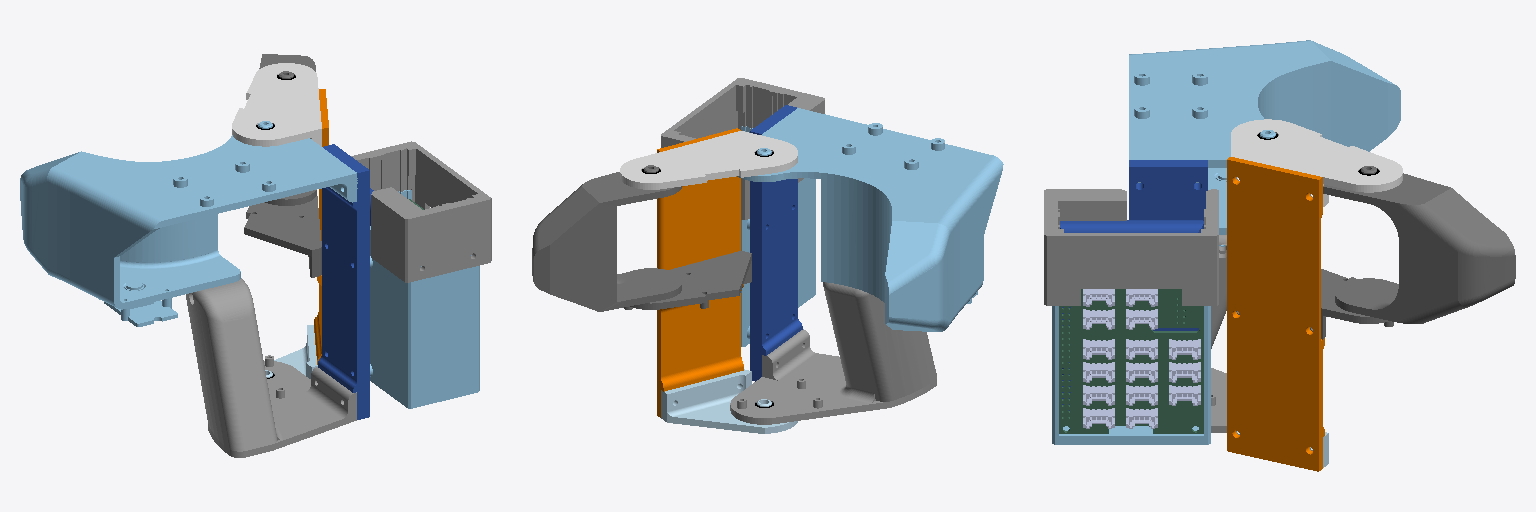
The robot description file, URDF, robot "grabette_right":
<?xml version="1.0" ?>
<!-- Generated using onshape-to-robot -->
<!-- Onshape https://cad.onshape.com/documents/8728c7fdb0e0b3c78180e1fb/w/529179f8dc04070c513eedce/e/88fd728908ce031c3076cd77 -->
<robot name="grabette_right">
  <!-- Link thumb_base -->
  <link name="thumb_base">
    <inertial>
      <origin xyz="0 0 0" rpy="0 0 0"/>
      <mass value="1e-09"/>
      <inertia ixx="1e-09" ixy="0" ixz="0" iyy="1e-09" iyz="0" izz="1e-09"/>
    </inertial>
    <!-- Part grip -->
    <visual>
      <origin xyz="-0.0105436 0.0157273 0" rpy="0 -0 0"/>
      <geometry>
        <mesh filename="package://grabette_right/assets/grip.stl"/>
      </geometry>
      <material name="grip_material">
        <color rgba="0.647059 0.647059 0.647059 1"/>
      </material>
    </visual>
    <collision>
      <origin xyz="-0.0105436 0.0157273 0" rpy="0 -0 0"/>
      <geometry>
        <mesh filename="package://grabette_right/assets/grip.stl"/>
      </geometry>
    </collision>
    <!-- Part vertical_support -->
    <visual>
      <origin xyz="-0.0105436 0.0157273 0" rpy="0 -0 -0"/>
      <geometry>
        <mesh filename="package://grabette_right/assets/vertical_support.stl"/>
      </geometry>
      <material name="vertical_support_material">
        <color rgba="0.231373 0.380392 0.705882 1"/>
      </material>
    </visual>
    <collision>
      <origin xyz="-0.0105436 0.0157273 0" rpy="0 -0 -0"/>
      <geometry>
        <mesh filename="package://grabette_right/assets/vertical_support.stl"/>
      </geometry>
    </collision>
    <!-- Part thumb_base -->
    <visual>
      <origin xyz="-0.0104436 0.0157273 0" rpy="0 -0 0"/>
      <geometry>
        <mesh filename="package://grabette_right/assets/thumb_base.stl"/>
      </geometry>
      <material name="thumb_base_material">
        <color rgba="0.615686 0.811765 0.929412 1"/>
      </material>
    </visual>
    <collision>
      <origin xyz="-0.0104436 0.0157273 0" rpy="0 -0 0"/>
      <geometry>
        <mesh filename="package://grabette_right/assets/thumb_base.stl"/>
      </geometry>
    </collision>
    <!-- Part red_button -->
    <visual>
      <origin xyz="0.0307258 0.0472051 -0.0557" rpy="0 -0 0"/>
      <geometry>
        <mesh filename="package://grabette_right/assets/red_button.stl"/>
      </geometry>
      <material name="red_button_material">
        <color rgba="0.615686 0.811765 0.929412 1"/>
      </material>
    </visual>
    <collision>
      <origin xyz="0.0307258 0.0472051 -0.0557" rpy="0 -0 0"/>
      <geometry>
        <mesh filename="package://grabette_right/assets/red_button.stl"/>
      </geometry>
    </collision>
    <!-- Part bushing_6x8x4 -->
    <visual>
      <origin xyz="-0.0001 -0 -0.11501" rpy="0 -0 0"/>
      <geometry>
        <mesh filename="package://grabette_right/assets/bushing_6x8x4.stl"/>
      </geometry>
      <material name="bushing_6x8x4_material">
        <color rgba="0 0 0 1"/>
      </material>
    </visual>
    <collision>
      <origin xyz="-0.0001 -0 -0.11501" rpy="0 -0 0"/>
      <geometry>
        <mesh filename="package://grabette_right/assets/bushing_6x8x4.stl"/>
      </geometry>
    </collision>
    <!-- Part raspi_box_lid -->
    <visual>
      <origin xyz="0.0394063 -0.0515497 -0.09908" rpy="-0 -0 -1.57079"/>
      <geometry>
        <mesh filename="package://grabette_right/assets/raspi_box_lid.stl"/>
      </geometry>
      <material name="raspi_box_lid_material">
        <color rgba="0.647059 0.647059 0.647059 1"/>
      </material>
    </visual>
    <collision>
      <origin xyz="0.0394063 -0.0515497 -0.09908" rpy="-0 -0 -1.57079"/>
      <geometry>
        <mesh filename="package://grabette_right/assets/raspi_box_lid.stl"/>
      </geometry>
    </collision>
    <!-- Part raspberry_pi_4_model_b -->
    <visual>
      <origin xyz="0.0414463 -0.0518997 -0.05458" rpy="-1.57079 -1.5708 0"/>
      <geometry>
        <mesh filename="package://grabette_right/assets/raspberry_pi_4_model_b.stl"/>
      </geometry>
      <material name="raspberry_pi_4_model_b_material">
        <color rgba="0.231373 0.380392 0.705882 1"/>
      </material>
    </visual>
    <collision>
      <origin xyz="0.0414463 -0.0518997 -0.05458" rpy="-1.57079 -1.5708 0"/>
      <geometry>
        <mesh filename="package://grabette_right/assets/raspberry_pi_4_model_b.stl"/>
      </geometry>
    </collision>
    <!-- Part raspi_box -->
    <visual>
      <origin xyz="0.0394063 -0.0517497 -0.09908" rpy="0 -0 -1.57079"/>
      <geometry>
        <mesh filename="package://grabette_right/assets/raspi_box.stl"/>
      </geometry>
      <material name="raspi_box_material">
        <color rgba="0.615686 0.811765 0.929412 1"/>
      </material>
    </visual>
    <collision>
      <origin xyz="0.0394063 -0.0517497 -0.09908" rpy="0 -0 -1.57079"/>
      <geometry>
        <mesh filename="package://grabette_right/assets/raspi_box.stl"/>
      </geometry>
    </collision>
    <!-- Part pisugar3plus -->
    <visual>
      <origin xyz="0.0380563 -0.0518932 -0.0645992" rpy="1.57079 1.5708 0"/>
      <geometry>
        <mesh filename="package://grabette_right/assets/pisugar3plus.stl"/>
      </geometry>
      <material name="pisugar3plus_material">
        <color rgba="0.231373 0.380392 0.705882 1"/>
      </material>
    </visual>
    <collision>
      <origin xyz="0.0380563 -0.0518932 -0.0645992" rpy="1.57079 1.5708 0"/>
      <geometry>
        <mesh filename="package://grabette_right/assets/pisugar3plus.stl"/>
      </geometry>
    </collision>
    <!-- Part user_library_grove_connector__sit -->
    <visual>
      <origin xyz="0.0553415 -0.0690316 -0.07041" rpy="-3.14159 0 1.5708"/>
      <geometry>
        <mesh filename="package://grabette_right/assets/user_library_grove_connector__sit.stl"/>
      </geometry>
      <material name="user_library_grove_connector__sit_material">
        <color rgba="0.792157 0.819608 0.933333 1"/>
      </material>
    </visual>
    <collision>
      <origin xyz="0.0553415 -0.0690316 -0.07041" rpy="-3.14159 0 1.5708"/>
      <geometry>
        <mesh filename="package://grabette_right/assets/user_library_grove_connector__sit.stl"/>
      </geometry>
    </collision>
    <!-- Part user_library_grove_connector__sit_2 -->
    <visual>
      <origin xyz="0.0553415 -0.0690316 -0.048185" rpy="-3.14159 0 1.5708"/>
      <geometry>
        <mesh filename="package://grabette_right/assets/user_library_grove_connector__sit.stl"/>
      </geometry>
      <material name="user_library_grove_connector__sit_2_material">
        <color rgba="0.792157 0.819608 0.933333 1"/>
      </material>
    </visual>
    <collision>
      <origin xyz="0.0553415 -0.0690316 -0.048185" rpy="-3.14159 0 1.5708"/>
      <geometry>
        <mesh filename="package://grabette_right/assets/user_library_grove_connector__sit.stl"/>
      </geometry>
    </collision>
    <!-- Part user_library_grove_connector__sit_3 -->
    <visual>
      <origin xyz="0.0553415 -0.0690316 -0.038533" rpy="-3.14159 0 1.5708"/>
      <geometry>
        <mesh filename="package://grabette_right/assets/user_library_grove_connector__sit.stl"/>
      </geometry>
      <material name="user_library_grove_connector__sit_3_material">
        <color rgba="0.792157 0.819608 0.933333 1"/>
      </material>
    </visual>
    <collision>
      <origin xyz="0.0553415 -0.0690316 -0.038533" rpy="-3.14159 0 1.5708"/>
      <geometry>
        <mesh filename="package://grabette_right/assets/user_library_grove_connector__sit.stl"/>
      </geometry>
    </collision>
    <!-- Part user_library_grove_connector__sit_4 -->
    <visual>
      <origin xyz="0.0553412 -0.0365196 -0.07041" rpy="-3.14159 0 1.5708"/>
      <geometry>
        <mesh filename="package://grabette_right/assets/user_library_grove_connector__sit.stl"/>
      </geometry>
      <material name="user_library_grove_connector__sit_4_material">
        <color rgba="0.792157 0.819608 0.933333 1"/>
      </material>
    </visual>
    <collision>
      <origin xyz="0.0553412 -0.0365196 -0.07041" rpy="-3.14159 0 1.5708"/>
      <geometry>
        <mesh filename="package://grabette_right/assets/user_library_grove_connector__sit.stl"/>
      </geometry>
    </collision>
    <!-- Part user_library_grove_connector__sit_5 -->
    <visual>
      <origin xyz="0.0553415 -0.0690316 -0.060758" rpy="-3.14159 0 1.5708"/>
      <geometry>
        <mesh filename="package://grabette_right/assets/user_library_grove_connector__sit.stl"/>
      </geometry>
      <material name="user_library_grove_connector__sit_5_material">
        <color rgba="0.792157 0.819608 0.933333 1"/>
      </material>
    </visual>
    <collision>
      <origin xyz="0.0553415 -0.0690316 -0.060758" rpy="-3.14159 0 1.5708"/>
      <geometry>
        <mesh filename="package://grabette_right/assets/user_library_grove_connector__sit.stl"/>
      </geometry>
    </collision>
    <!-- Part user_library_grove_connector__sit_6 -->
    <visual>
      <origin xyz="0.0553413 -0.0527121 -0.089714" rpy="-3.14159 0 1.5708"/>
      <geometry>
        <mesh filename="package://grabette_right/assets/user_library_grove_connector__sit.stl"/>
      </geometry>
      <material name="user_library_grove_connector__sit_6_material">
        <color rgba="0.792157 0.819608 0.933333 1"/>
      </material>
    </visual>
    <collision>
      <origin xyz="0.0553413 -0.0527121 -0.089714" rpy="-3.14159 0 1.5708"/>
      <geometry>
        <mesh filename="package://grabette_right/assets/user_library_grove_connector__sit.stl"/>
      </geometry>
    </collision>
    <!-- Part user_library_grove_connector__sit_7 -->
    <visual>
      <origin xyz="0.0553415 -0.0690316 -0.080062" rpy="-3.14159 0 1.5708"/>
      <geometry>
        <mesh filename="package://grabette_right/assets/user_library_grove_connector__sit.stl"/>
      </geometry>
      <material name="user_library_grove_connector__sit_7_material">
        <color rgba="0.792157 0.819608 0.933333 1"/>
      </material>
    </visual>
    <collision>
      <origin xyz="0.0553415 -0.0690316 -0.080062" rpy="-3.14159 0 1.5708"/>
      <geometry>
        <mesh filename="package://grabette_right/assets/user_library_grove_connector__sit.stl"/>
      </geometry>
    </collision>
    <!-- Part user_library_grove_connector__sit_8 -->
    <visual>
      <origin xyz="0.0553413 -0.0527121 -0.07041" rpy="-3.14159 0 1.5708"/>
      <geometry>
        <mesh filename="package://grabette_right/assets/user_library_grove_connector__sit.stl"/>
      </geometry>
      <material name="user_library_grove_connector__sit_8_material">
        <color rgba="0.792157 0.819608 0.933333 1"/>
      </material>
    </visual>
    <collision>
      <origin xyz="0.0553413 -0.0527121 -0.07041" rpy="-3.14159 0 1.5708"/>
      <geometry>
        <mesh filename="package://grabette_right/assets/user_library_grove_connector__sit.stl"/>
      </geometry>
    </collision>
    <!-- Part user_library_grove_connector__sit_9 -->
    <visual>
      <origin xyz="0.0553413 -0.0527121 -0.048185" rpy="-3.14159 0 1.5708"/>
      <geometry>
        <mesh filename="package://grabette_right/assets/user_library_grove_connector__sit.stl"/>
      </geometry>
      <material name="user_library_grove_connector__sit_9_material">
        <color rgba="0.792157 0.819608 0.933333 1"/>
      </material>
    </visual>
    <collision>
      <origin xyz="0.0553413 -0.0527121 -0.048185" rpy="-3.14159 0 1.5708"/>
      <geometry>
        <mesh filename="package://grabette_right/assets/user_library_grove_connector__sit.stl"/>
      </geometry>
    </collision>
    <!-- Part user_library_grove_connector__sit_10 -->
    <visual>
      <origin xyz="0.0553413 -0.0527121 -0.060758" rpy="-3.14159 0 1.5708"/>
      <geometry>
        <mesh filename="package://grabette_right/assets/user_library_grove_connector__sit.stl"/>
      </geometry>
      <material name="user_library_grove_connector__sit_10_material">
        <color rgba="0.792157 0.819608 0.933333 1"/>
      </material>
    </visual>
    <collision>
      <origin xyz="0.0553413 -0.0527121 -0.060758" rpy="-3.14159 0 1.5708"/>
      <geometry>
        <mesh filename="package://grabette_right/assets/user_library_grove_connector__sit.stl"/>
      </geometry>
    </collision>
    <!-- Part raspberry_pi_grove_base_hat_v1_0_pcb -->
    <visual>
      <origin xyz="0.0532471 -0.156903 -0.213081" rpy="-3.14159 -1.5708 0"/>
      <geometry>
        <mesh filename="package://grabette_right/assets/raspberry_pi_grove_base_hat_v1_0_pcb.stl"/>
      </geometry>
      <material name="raspberry_pi_grove_base_hat_v1_0_pcb_material">
        <color rgba="0.313725 0.486275 0.411765 1"/>
      </material>
    </visual>
    <collision>
      <origin xyz="0.0532471 -0.156903 -0.213081" rpy="-3.14159 -1.5708 0"/>
      <geometry>
        <mesh filename="package://grabette_right/assets/raspberry_pi_grove_base_hat_v1_0_pcb.stl"/>
      </geometry>
    </collision>
    <!-- Part user_library_grove_connector__sit_11 -->
    <visual>
      <origin xyz="0.0553412 -0.0365196 -0.060758" rpy="-3.14159 0 1.5708"/>
      <geometry>
        <mesh filename="package://grabette_right/assets/user_library_grove_connector__sit.stl"/>
      </geometry>
      <material name="user_library_grove_connector__sit_11_material">
        <color rgba="0.792157 0.819608 0.933333 1"/>
      </material>
    </visual>
    <collision>
      <origin xyz="0.0553412 -0.0365196 -0.060758" rpy="-3.14159 0 1.5708"/>
      <geometry>
        <mesh filename="package://grabette_right/assets/user_library_grove_connector__sit.stl"/>
      </geometry>
    </collision>
    <!-- Part user_library_grove_connector__sit_12 -->
    <visual>
      <origin xyz="0.0553413 -0.0527121 -0.038533" rpy="-3.14159 0 1.5708"/>
      <geometry>
        <mesh filename="package://grabette_right/assets/user_library_grove_connector__sit.stl"/>
      </geometry>
      <material name="user_library_grove_connector__sit_12_material">
        <color rgba="0.792157 0.819608 0.933333 1"/>
      </material>
    </visual>
    <collision>
      <origin xyz="0.0553413 -0.0527121 -0.038533" rpy="-3.14159 0 1.5708"/>
      <geometry>
        <mesh filename="package://grabette_right/assets/user_library_grove_connector__sit.stl"/>
      </geometry>
    </collision>
    <!-- Part user_library_grove_connector__sit_13 -->
    <visual>
      <origin xyz="0.0553415 -0.0690316 -0.089714" rpy="-3.14159 0 1.5708"/>
      <geometry>
        <mesh filename="package://grabette_right/assets/user_library_grove_connector__sit.stl"/>
      </geometry>
      <material name="user_library_grove_connector__sit_13_material">
        <color rgba="0.792157 0.819608 0.933333 1"/>
      </material>
    </visual>
    <collision>
      <origin xyz="0.0553415 -0.0690316 -0.089714" rpy="-3.14159 0 1.5708"/>
      <geometry>
        <mesh filename="package://grabette_right/assets/user_library_grove_connector__sit.stl"/>
      </geometry>
    </collision>
    <!-- Part user_library_grove_connector__sit_14 -->
    <visual>
      <origin xyz="0.0553412 -0.0365196 -0.080062" rpy="-3.14159 0 1.5708"/>
      <geometry>
        <mesh filename="package://grabette_right/assets/user_library_grove_connector__sit.stl"/>
      </geometry>
      <material name="user_library_grove_connector__sit_14_material">
        <color rgba="0.792157 0.819608 0.933333 1"/>
      </material>
    </visual>
    <collision>
      <origin xyz="0.0553412 -0.0365196 -0.080062" rpy="-3.14159 0 1.5708"/>
      <geometry>
        <mesh filename="package://grabette_right/assets/user_library_grove_connector__sit.stl"/>
      </geometry>
    </collision>
    <!-- Part user_library_grove_connector__sit_15 -->
    <visual>
      <origin xyz="0.0553413 -0.0527121 -0.080062" rpy="-3.14159 0 1.5708"/>
      <geometry>
        <mesh filename="package://grabette_right/assets/user_library_grove_connector__sit.stl"/>
      </geometry>
      <material name="user_library_grove_connector__sit_15_material">
        <color rgba="0.792157 0.819608 0.933333 1"/>
      </material>
    </visual>
    <collision>
      <origin xyz="0.0553413 -0.0527121 -0.080062" rpy="-3.14159 0 1.5708"/>
      <geometry>
        <mesh filename="package://grabette_right/assets/user_library_grove_connector__sit.stl"/>
      </geometry>
    </collision>
  </link>
  <!-- Link phalanx_1_bottom -->
  <link name="phalanx_1_bottom">
    <inertial>
      <origin xyz="0 0 0" rpy="0 0 0"/>
      <mass value="1e-09"/>
      <inertia ixx="1e-09" ixy="0" ixz="0" iyy="1e-09" iyz="0" izz="1e-09"/>
    </inertial>
    <!-- Part phalanx_1_bottom -->
    <visual>
      <origin xyz="-0.0104436 -0.0157273 7e-05" rpy="3.14159 -0 -0"/>
      <geometry>
        <mesh filename="package://grabette_right/assets/phalanx_1_bottom.stl"/>
      </geometry>
      <material name="phalanx_1_bottom_material">
        <color rgba="0.768627 0.886275 0.952941 1"/>
      </material>
    </visual>
    <collision>
      <origin xyz="-0.0104436 -0.0157273 7e-05" rpy="3.14159 -0 -0"/>
      <geometry>
        <mesh filename="package://grabette_right/assets/phalanx_1_bottom.stl"/>
      </geometry>
    </collision>
    <!-- Part phalanx_1_side -->
    <visual>
      <origin xyz="-0.0104436 -0.0157273 7e-05" rpy="3.14159 -0 0"/>
      <geometry>
        <mesh filename="package://grabette_right/assets/phalanx_1_side.stl"/>
      </geometry>
      <material name="phalanx_1_side_material">
        <color rgba="0.972549 0.529412 0.00392157 1"/>
      </material>
    </visual>
    <collision>
      <origin xyz="-0.0104436 -0.0157273 7e-05" rpy="3.14159 -0 0"/>
      <geometry>
        <mesh filename="package://grabette_right/assets/phalanx_1_side.stl"/>
      </geometry>
    </collision>
    <!-- Part phalanx_1_middle -->
    <visual>
      <origin xyz="-0.0104436 -0.0157273 7e-05" rpy="3.14159 -0 -0"/>
      <geometry>
        <mesh filename="package://grabette_right/assets/phalanx_1_middle.stl"/>
      </geometry>
      <material name="phalanx_1_middle_material">
        <color rgba="0.498039 0.498039 0.498039 1"/>
      </material>
    </visual>
    <collision>
      <origin xyz="-0.0104436 -0.0157273 7e-05" rpy="3.14159 -0 -0"/>
      <geometry>
        <mesh filename="package://grabette_right/assets/phalanx_1_middle.stl"/>
      </geometry>
    </collision>
    <!-- Part bushing_6x8x4_2 -->
    <visual>
      <origin xyz="0.0321391 -0.0383025 0.05014" rpy="0 -0 -0"/>
      <geometry>
        <mesh filename="package://grabette_right/assets/bushing_6x8x4.stl"/>
      </geometry>
      <material name="bushing_6x8x4_2_material">
        <color rgba="0 0 0 1"/>
      </material>
    </visual>
    <collision>
      <origin xyz="0.0321391 -0.0383025 0.05014" rpy="0 -0 -0"/>
      <geometry>
        <mesh filename="package://grabette_right/assets/bushing_6x8x4.stl"/>
      </geometry>
    </collision>
    <!-- Part phalanx_1_top -->
    <visual>
      <origin xyz="-0.0104436 -0.0157273 7e-05" rpy="3.14159 -0 -0"/>
      <geometry>
        <mesh filename="package://grabette_right/assets/phalanx_1_top.stl"/>
      </geometry>
      <material name="phalanx_1_top_material">
        <color rgba="0.917647 0.917647 0.917647 1"/>
      </material>
    </visual>
    <collision>
      <origin xyz="-0.0104436 -0.0157273 7e-05" rpy="3.14159 -0 -0"/>
      <geometry>
        <mesh filename="package://grabette_right/assets/phalanx_1_top.stl"/>
      </geometry>
    </collision>
    <!-- Part bushing_6x8x4_3 -->
    <visual>
      <origin xyz="0 0 0" rpy="3.14159 -0 0"/>
      <geometry>
        <mesh filename="package://grabette_right/assets/bushing_6x8x4.stl"/>
      </geometry>
      <material name="bushing_6x8x4_3_material">
        <color rgba="0 0 0 1"/>
      </material>
    </visual>
    <collision>
      <origin xyz="0 0 0" rpy="3.14159 -0 0"/>
      <geometry>
        <mesh filename="package://grabette_right/assets/bushing_6x8x4.stl"/>
      </geometry>
    </collision>
    <!-- Part bushing_6x8x4_4 -->
    <visual>
      <origin xyz="0.0321391 -0.0383025 0" rpy="3.14159 -0 0"/>
      <geometry>
        <mesh filename="package://grabette_right/assets/bushing_6x8x4.stl"/>
      </geometry>
      <material name="bushing_6x8x4_4_material">
        <color rgba="0 0 0 1"/>
      </material>
    </visual>
    <collision>
      <origin xyz="0.0321391 -0.0383025 0" rpy="3.14159 -0 0"/>
      <geometry>
        <mesh filename="package://grabette_right/assets/bushing_6x8x4.stl"/>
      </geometry>
    </collision>
  </link>
  <!-- Link phalanx_2 -->
  <link name="phalanx_2">
    <inertial>
      <origin xyz="0 0 0" rpy="0 0 0"/>
      <mass value="1e-09"/>
      <inertia ixx="1e-09" ixy="0" ixz="0" iyy="1e-09" iyz="0" izz="1e-09"/>
    </inertial>
    <!-- Part phalanx_2 -->
    <visual>
      <origin xyz="-0.0425827 -0.0225751 0" rpy="0 -0 0"/>
      <geometry>
        <mesh filename="package://grabette_right/assets/phalanx_2.stl"/>
      </geometry>
      <material name="phalanx_2_material">
        <color rgba="0.498039 0.498039 0.498039 1"/>
      </material>
    </visual>
    <collision>
      <origin xyz="-0.0425827 -0.0225751 0" rpy="0 -0 0"/>
      <geometry>
        <mesh filename="package://grabette_right/assets/phalanx_2.stl"/>
      </geometry>
    </collision>
  </link>
  <!-- Joint from phalanx_1_bottom to phalanx_2 -->
  <joint name="distal" type="revolute">
    <origin xyz="0.0321391 -0.0383025 -0" rpy="3.14159 -0 0"/>
    <parent link="phalanx_1_bottom"/>
    <child link="phalanx_2"/>
    <axis xyz="0 0 1"/>
    <limit effort="10" velocity="10" lower="-3.141592653589793" upper="3.141592653589793"/>
  </joint>
  <!-- Joint from thumb_base to phalanx_1_bottom -->
  <joint name="proximal" type="revolute">
    <origin xyz="0 -0 0" rpy="3.14159 -0 -0"/>
    <parent link="thumb_base"/>
    <child link="phalanx_1_bottom"/>
    <axis xyz="0 0 1"/>
    <limit effort="10" velocity="10" lower="-3.141592653589793" upper="3.141592653589793"/>
  </joint>
</robot>

--- What the picture shows (computed from the rendered views, not written in the file) ---
The picture shows the robot from 3 angles, left to right: view 1: azimuth 30°, elevation 25°; view 2: azimuth 150°, elevation 25°; view 3: azimuth 270°, elevation 25°; orthographic projection.
Model grabette_right with 3 links and 2 joints (2 revolute), rooted at thumb_base, posed all joints at 0.
Links seen in each view (by area): view 1: thumb_base, phalanx_1_bottom, phalanx_2; view 2: thumb_base, phalanx_1_bottom, phalanx_2; view 3: thumb_base, phalanx_1_bottom, phalanx_2.
Boxes of the visible links, x1,y1,x2,y2 form: thumb_base: (20, 121, 491, 457); phalanx_1_bottom: (232, 63, 328, 378); phalanx_2: (259, 54, 316, 205); thumb_base: (661, 78, 1003, 424); phalanx_1_bottom: (620, 128, 797, 433); phalanx_2: (532, 165, 681, 311); thumb_base: (1044, 40, 1400, 444); phalanx_1_bottom: (1227, 119, 1402, 471); phalanx_2: (1323, 166, 1515, 323).
Bounding box of the posed robot: 0.1652 × 0.1786 × 0.1232 m (x, y, z).
32 mesh visuals loaded from 16 distinct referenced files (15 binary STL); not drawn: 1 (reference not matched to a file when rendering).
